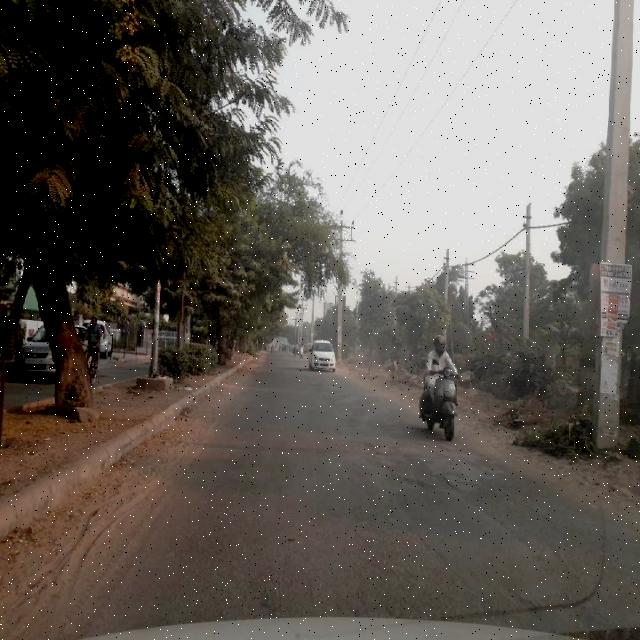D40: (490, 588, 566, 618), (386, 466, 462, 495)
